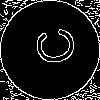C: (25, 25, 77, 69)
